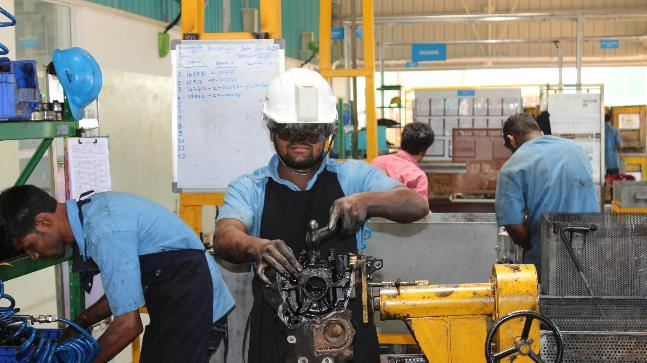Person_wearing_helmet: (259, 56, 346, 140)
